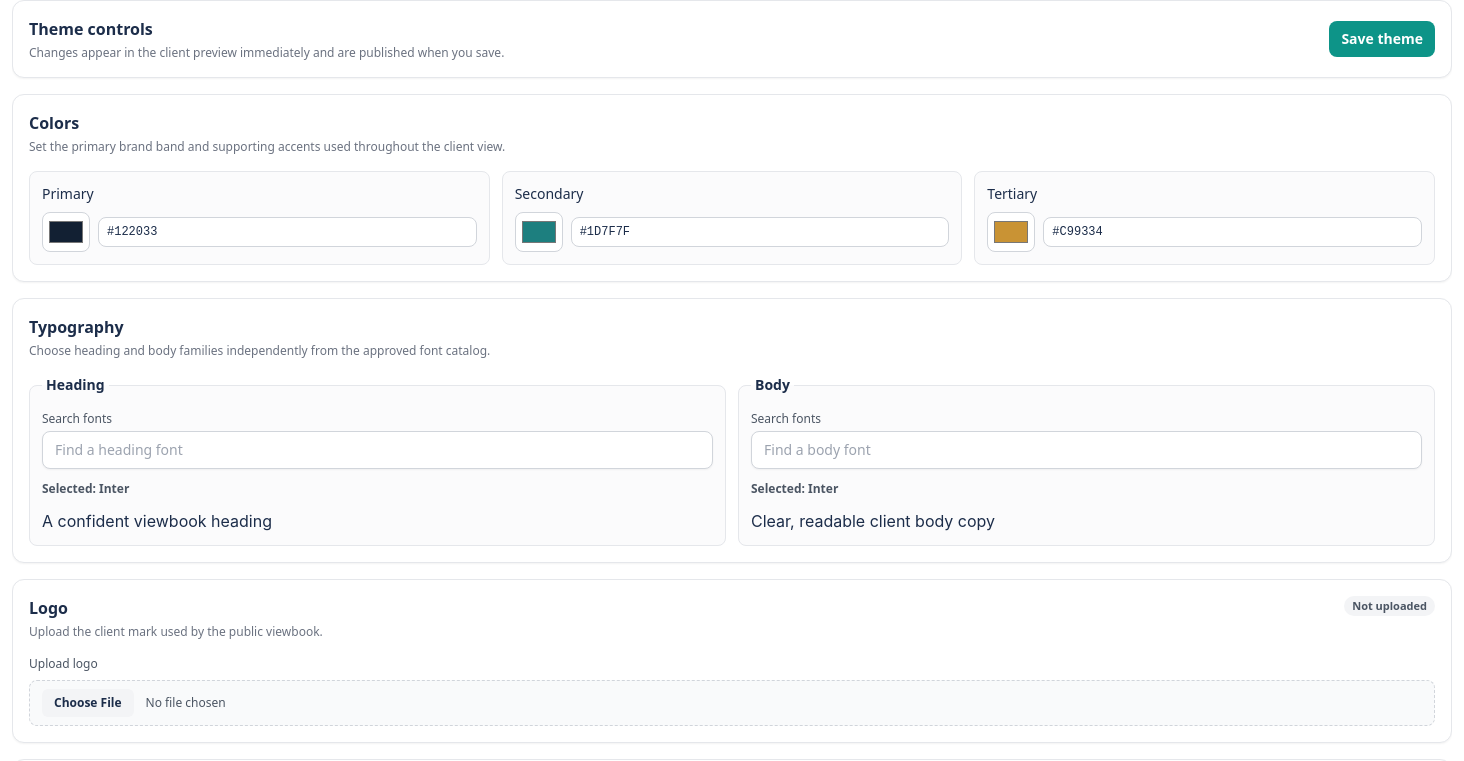
Scenario: ThemeEditor › loads the full catalog lazily and keyboard-selects a visible combobox result
The width and height of the screenshot is (1464, 761).
Type "abril fatface" into the dropdown named "Search heading fonts" at (378, 450), box [42,431,713,469]
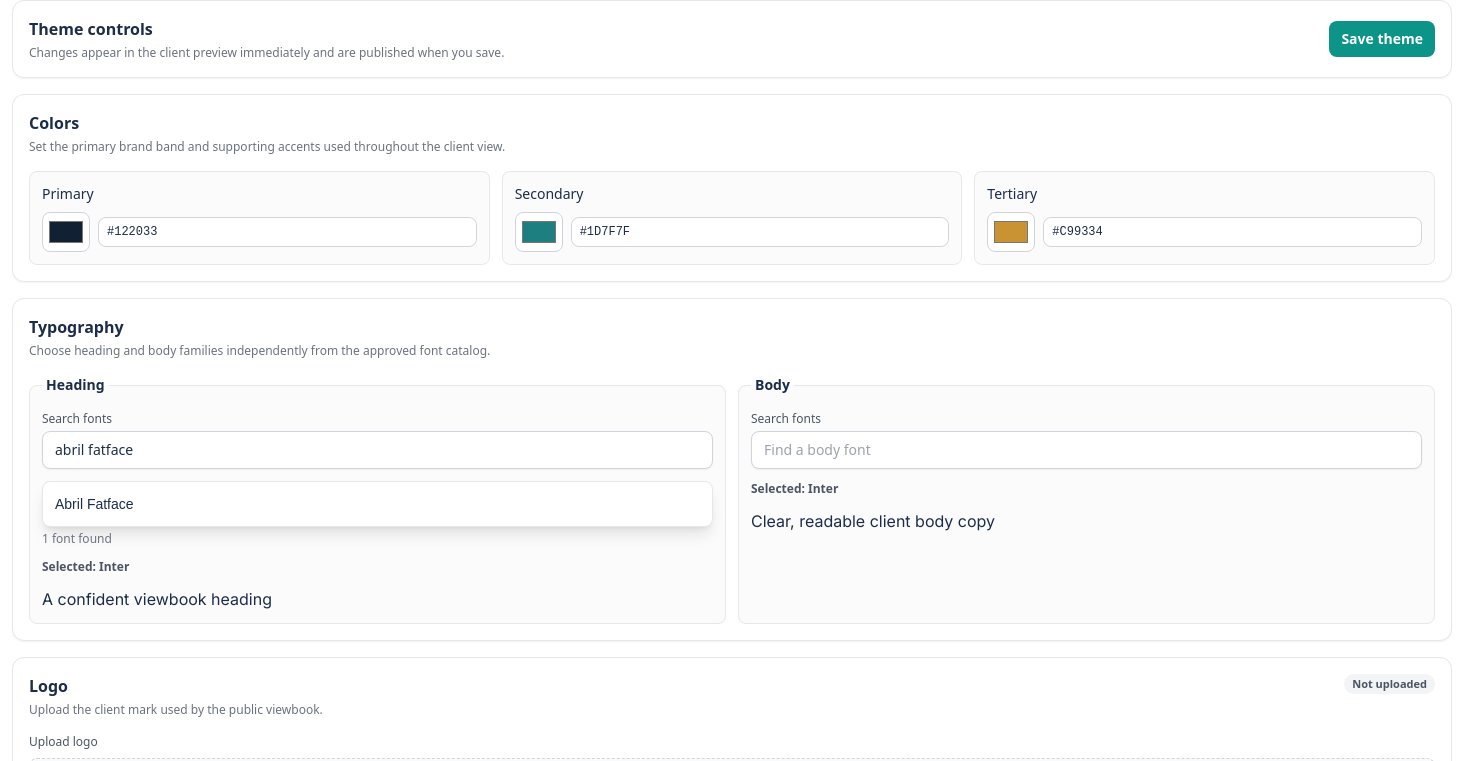
Press ArrowDown in the dropdown named "Search heading fonts", box [42,431,713,469]
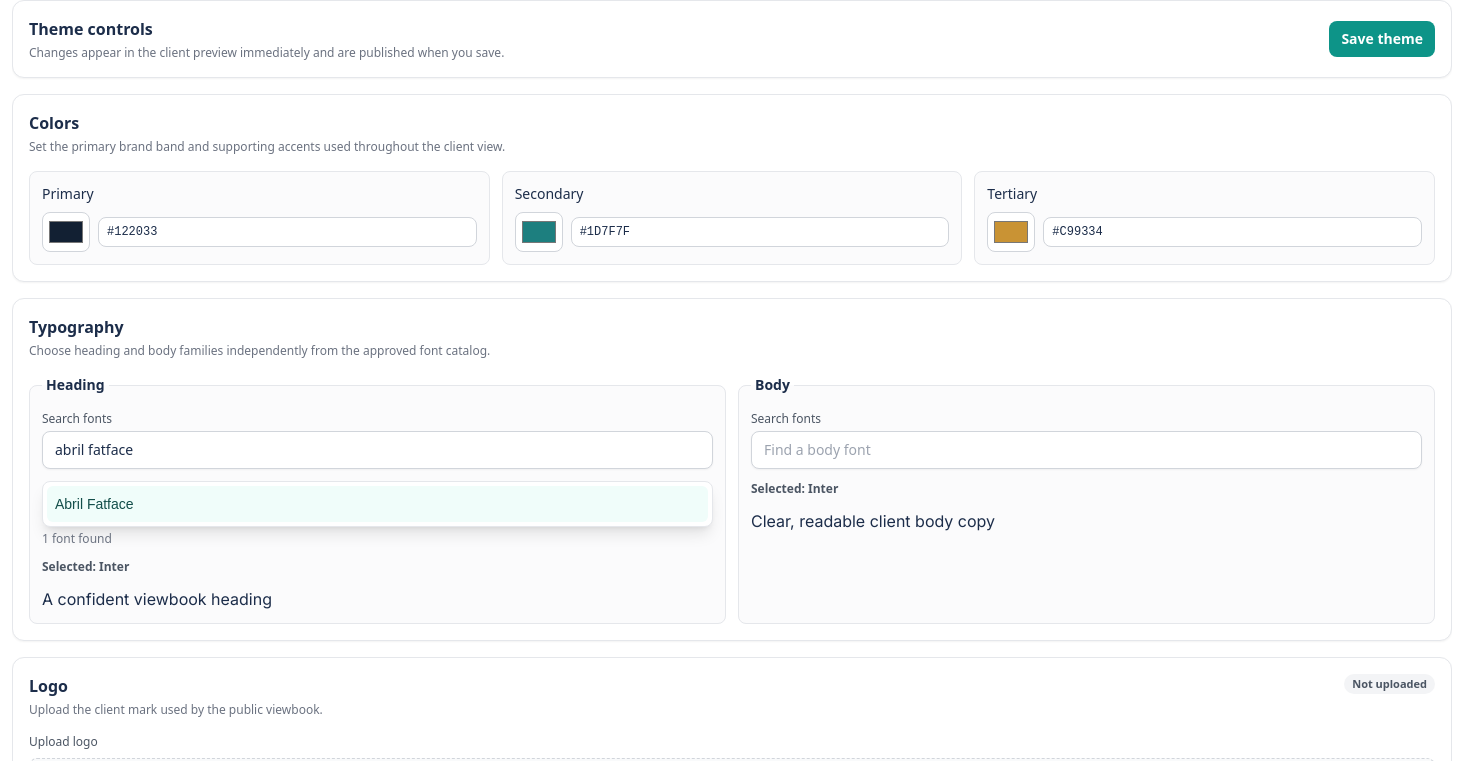
Press Enter in the dropdown named "Search heading fonts", box [42,431,713,469]
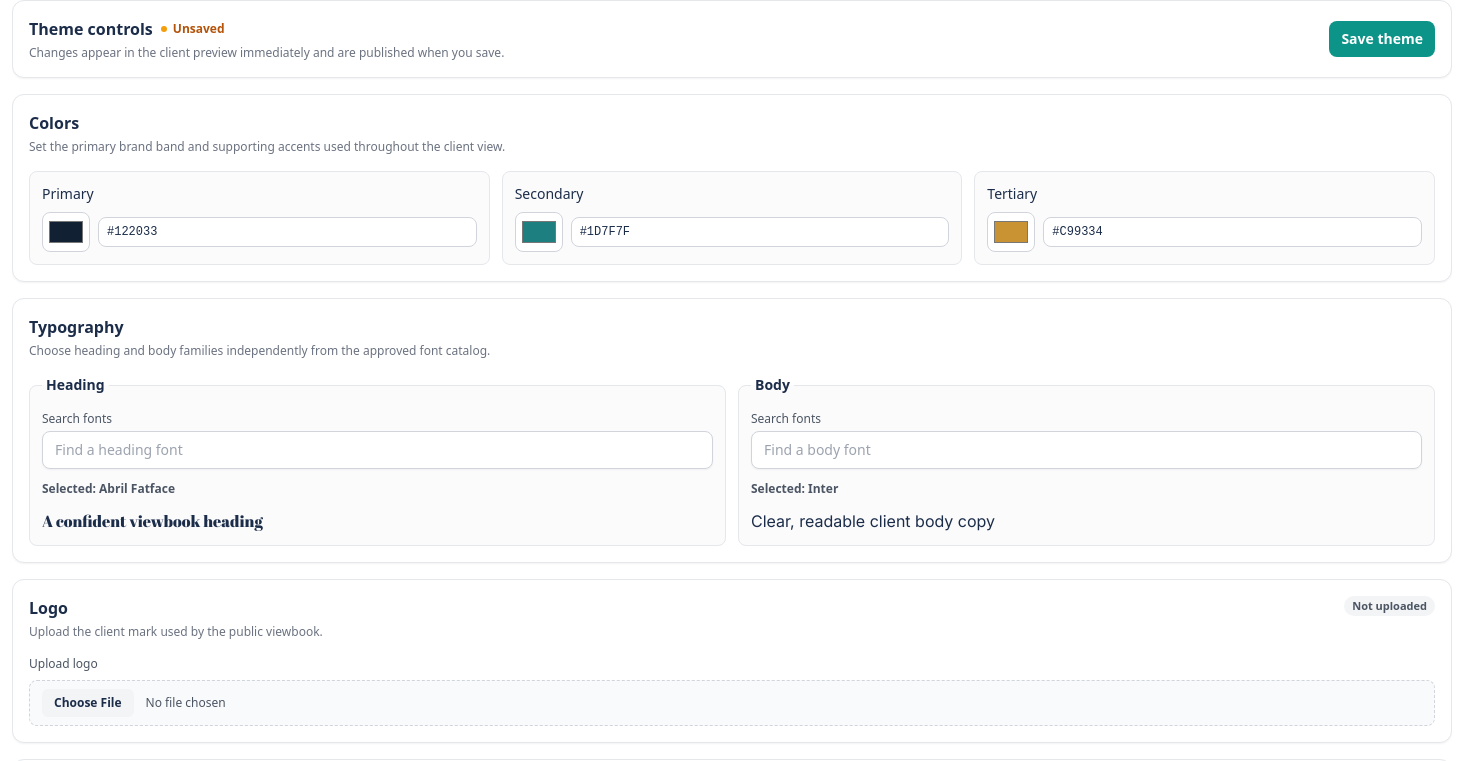
Check: the text "Selected: Abril Fatface" is shown, box [42,480,175,497]
